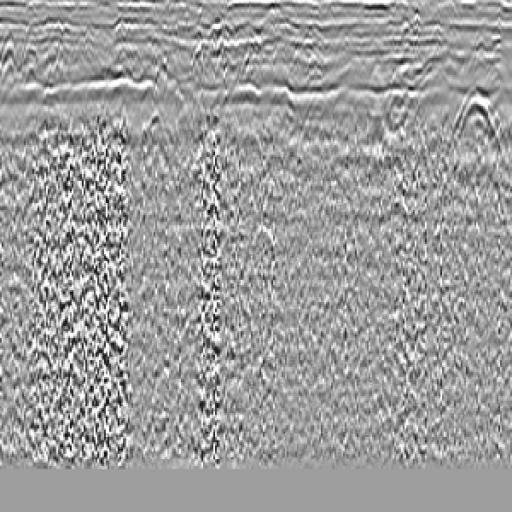metalic: (426, 69, 512, 220)
